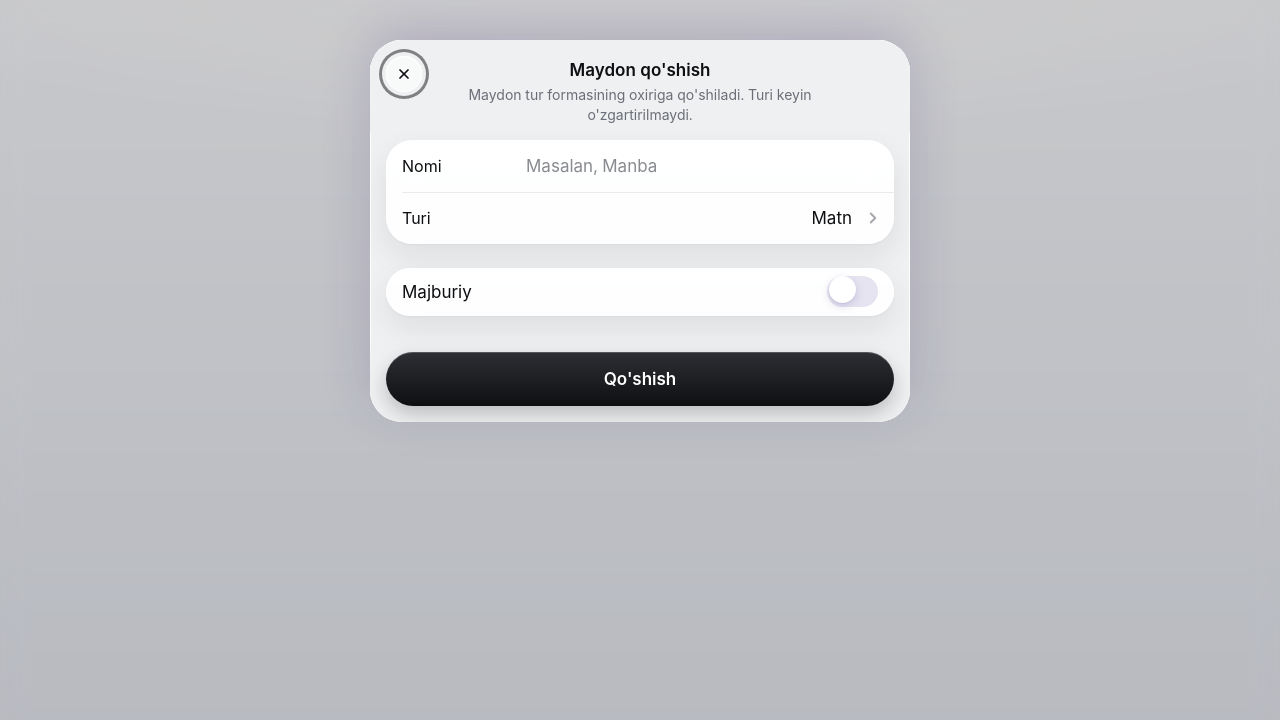
with no dropdown yet a choice says where to make one; where fields may not be unique nothing asks it
The width and height of the screenshot is (1280, 720).
Click the button labelled "Turi Matn" at (832, 218), box [386, 192, 894, 244]
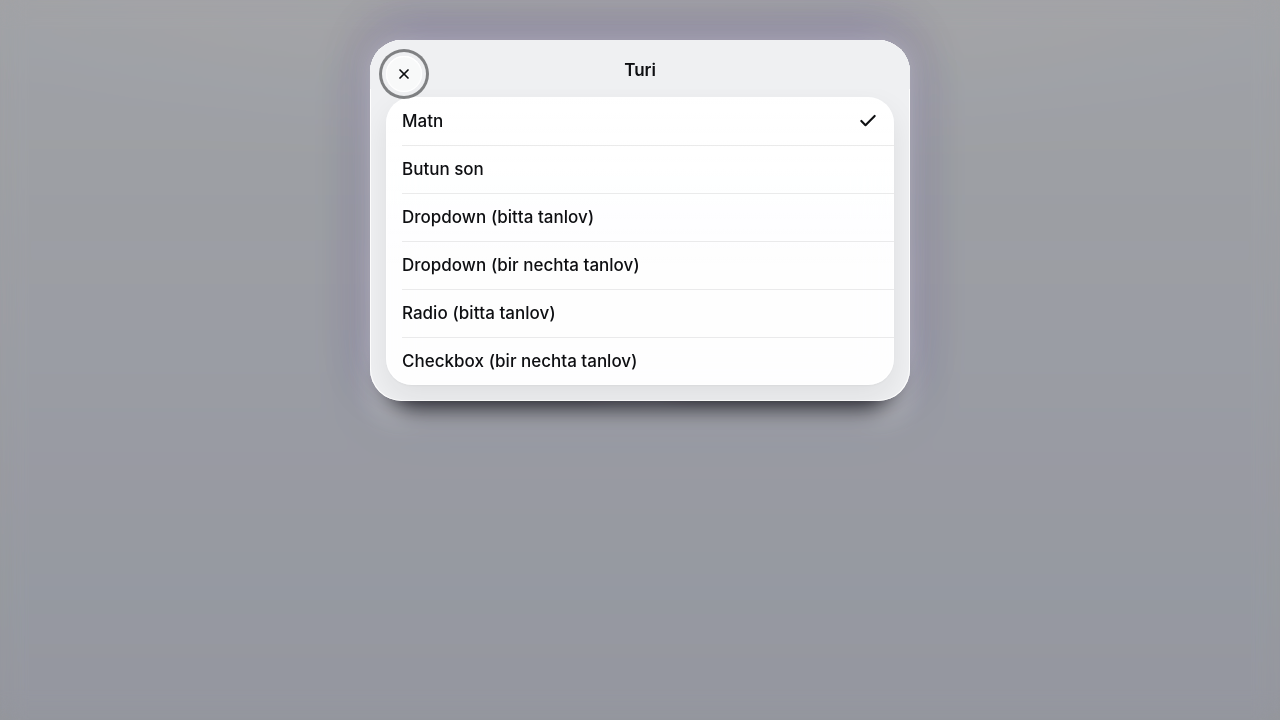
Click the option "Radio (bitta tanlov)" at (479, 313), box [402, 303, 556, 323]
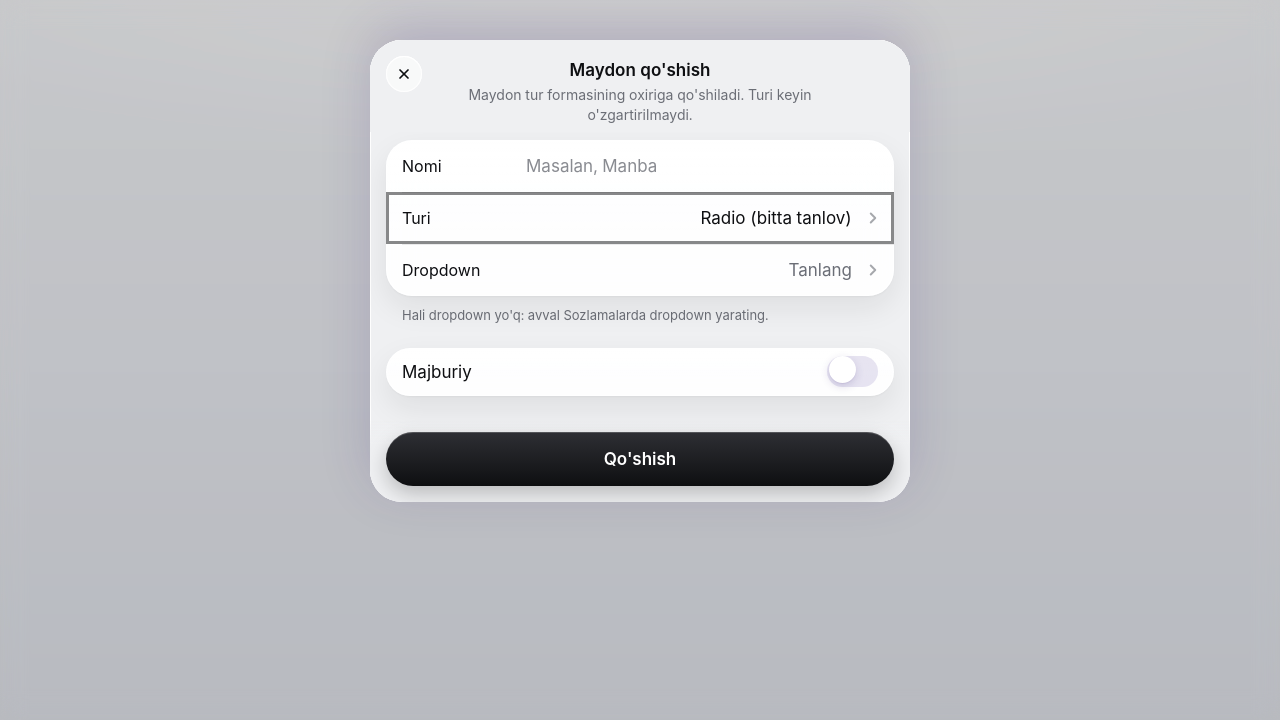
Expected: the list is gone
Expected: the text "Hali dropdown yo'q: avval Sozlamalarda dropdown yarating." is shown, [402, 307, 768, 323]
